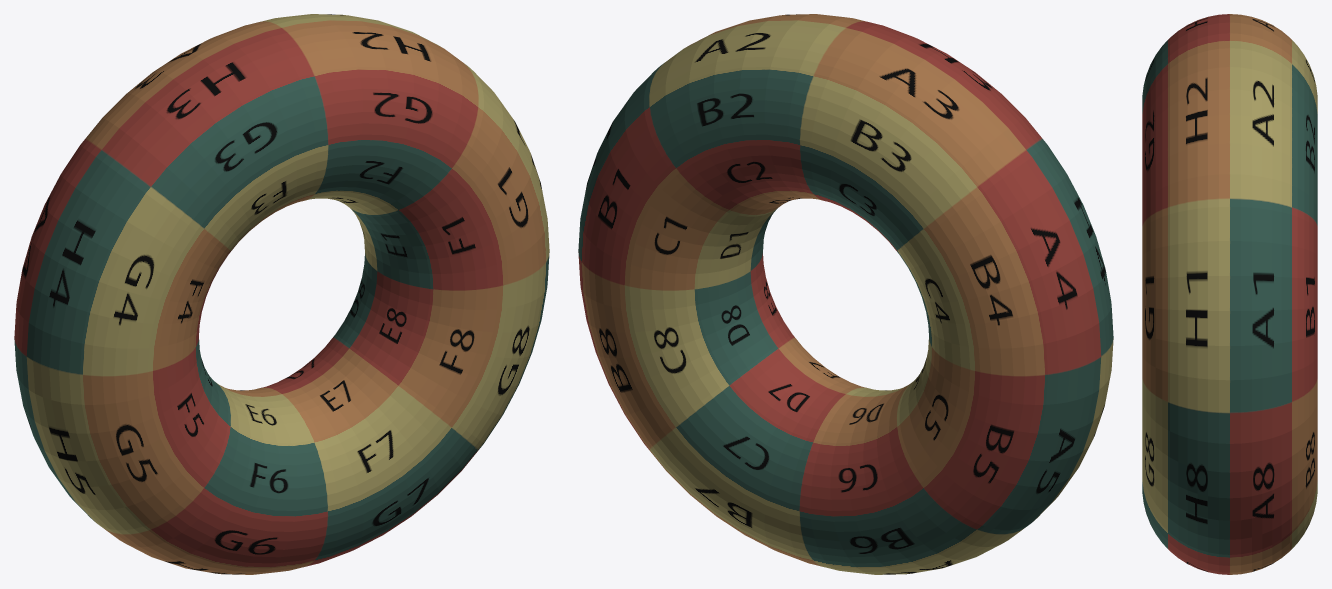
File: texture_torus_R10_r21.glb
3 renders of one model, left to right at view 1: azimuth 30°, elevation 25°; view 2: azimuth 150°, elevation 25°; view 3: azimuth 270°, elevation 25°, orthographic. The views are drawn at different scales.
Parts seen in each view (by area): view 1: world; view 2: world; view 3: world.
Boxes of the visible parts, box(x1,y1,x2,y2) form: world: box(14, 14, 549, 574); world: box(578, 14, 1113, 574); world: box(1142, 14, 1317, 574).
Bounding box in the file's own units: 24.27 × 24.22 × 7.59.
Materials: 1 (1 with a texture image).
